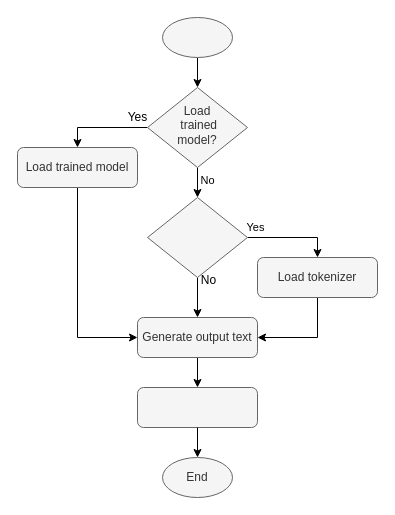
Some shapes in this 395 by 515 pixel diagram are drawn without their labels. The centre of each missing label's shape, as x and y in pixels:
Load tokenizer?: the point at 197,237
Post-process output text: the point at 197,407
Start: the point at 197,37
